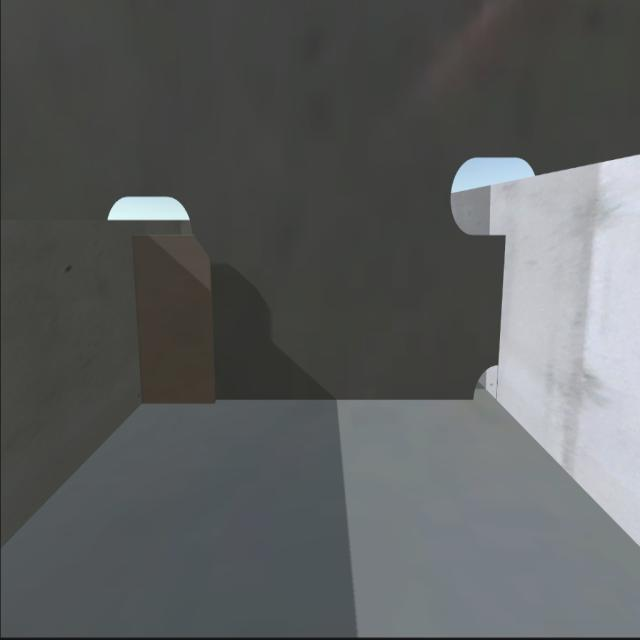fillet_hole: (467, 356, 503, 402)
fillet_yong_jeop_jang: (145, 387, 471, 410)
longi_yong_jeop_jang: (128, 238, 152, 394), (491, 231, 508, 364)
plate_CP03: (133, 233, 214, 399)
